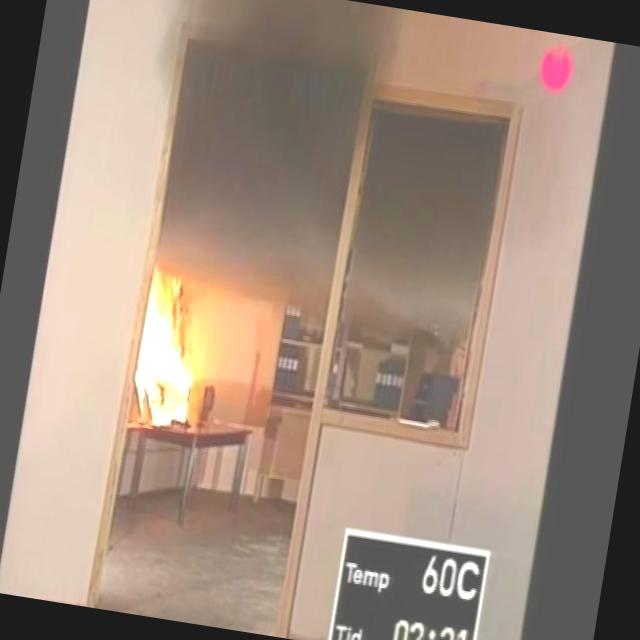fire: (127, 269, 234, 446)
